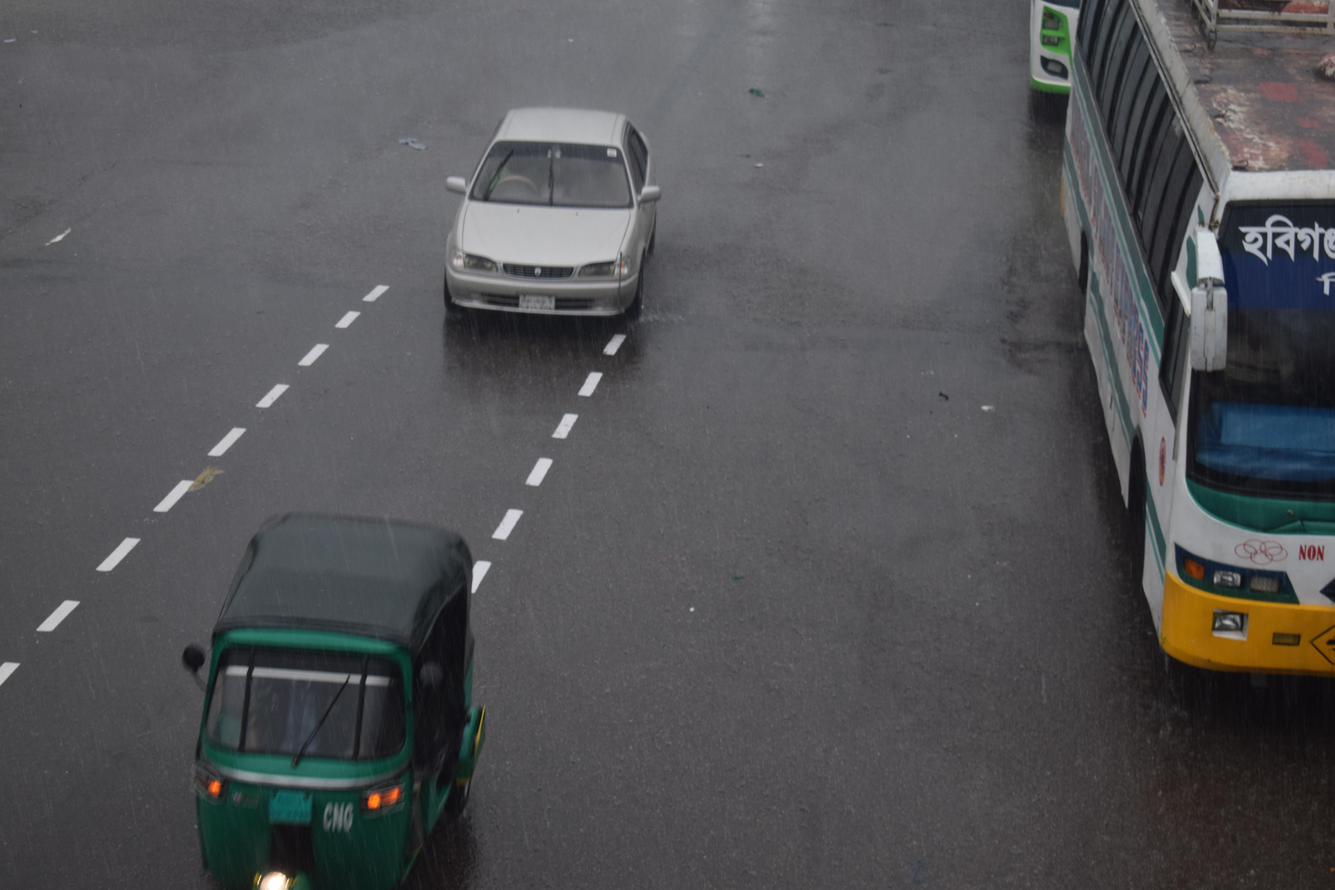Bus: (908, 0, 1335, 745)
Car: (391, 65, 723, 396)
